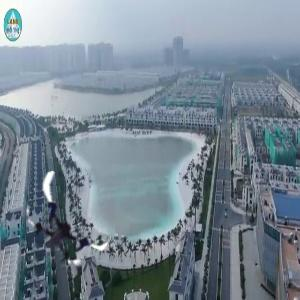drone: (21, 181, 116, 276)
